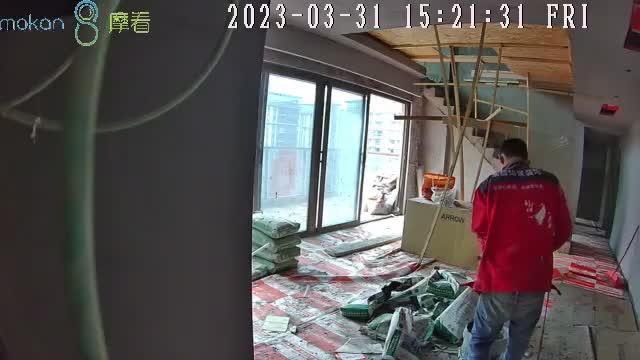people: (469, 138, 573, 359)
window: (258, 64, 406, 236)
